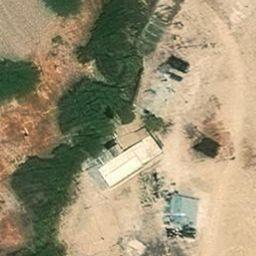manzanas: (82, 128, 164, 192), (165, 195, 199, 240)
